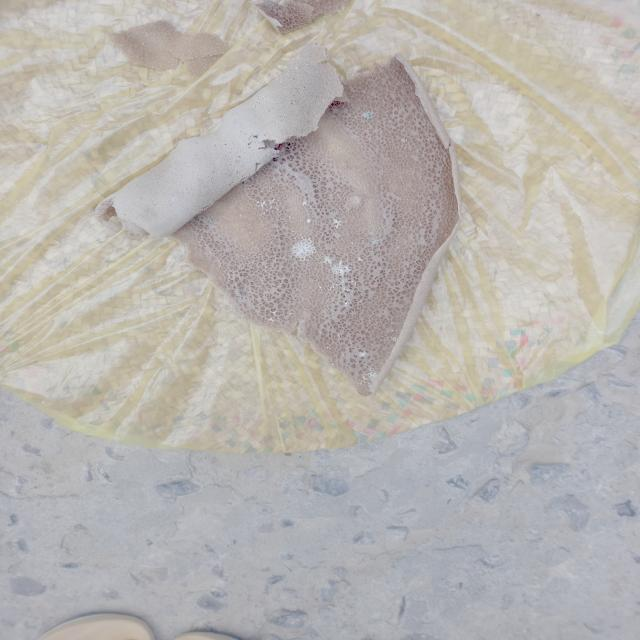injera_mold: (322, 252, 366, 277), (292, 232, 316, 263), (255, 196, 278, 214), (333, 280, 359, 294), (361, 368, 384, 382), (336, 298, 356, 310), (353, 347, 371, 359), (266, 310, 280, 322), (361, 110, 377, 120), (328, 220, 342, 228), (368, 237, 380, 246), (275, 77, 286, 86), (171, 194, 179, 204), (304, 217, 312, 226), (293, 64, 301, 72), (300, 199, 306, 209)
